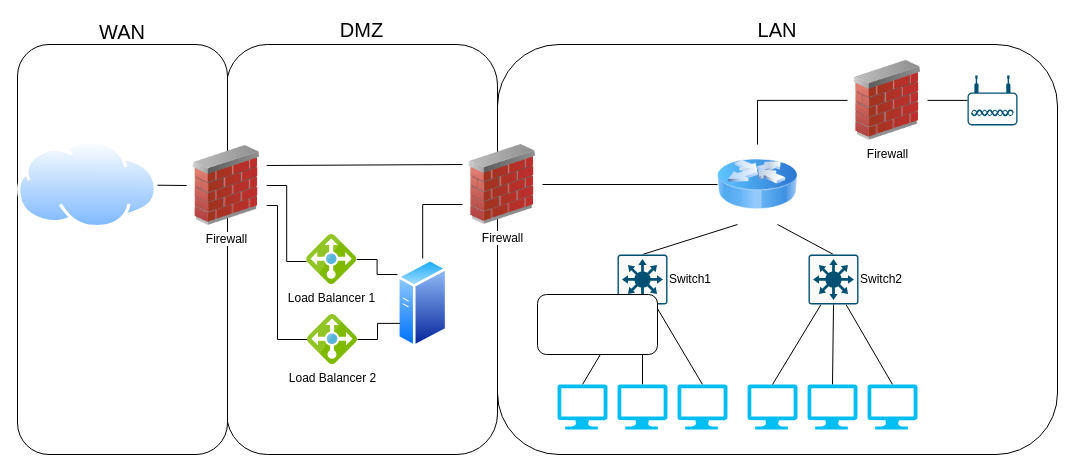
This 1075x472 diagram has some shape labels left out. Each missing label, with the centre of its shape:
Access Point: (992,100)
Internet: (87,184)
Router: (757,184)
